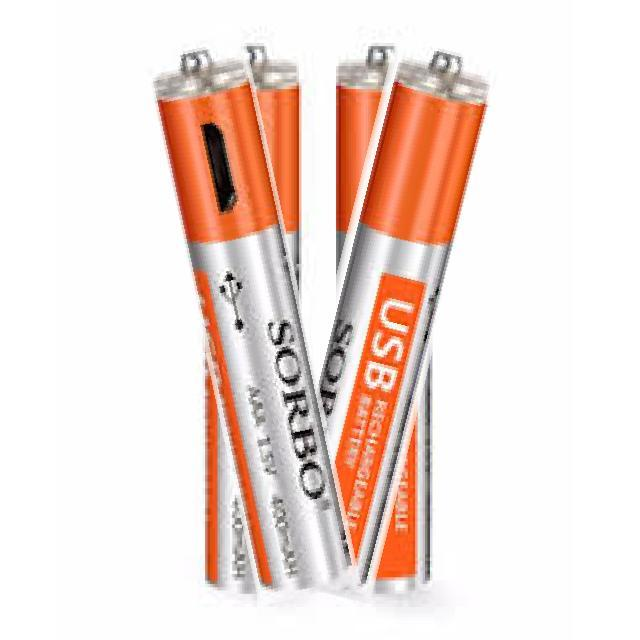Battery: (130, 34, 365, 596), (316, 44, 492, 582), (329, 39, 405, 294), (370, 357, 434, 598), (200, 361, 265, 597), (248, 37, 302, 286)
